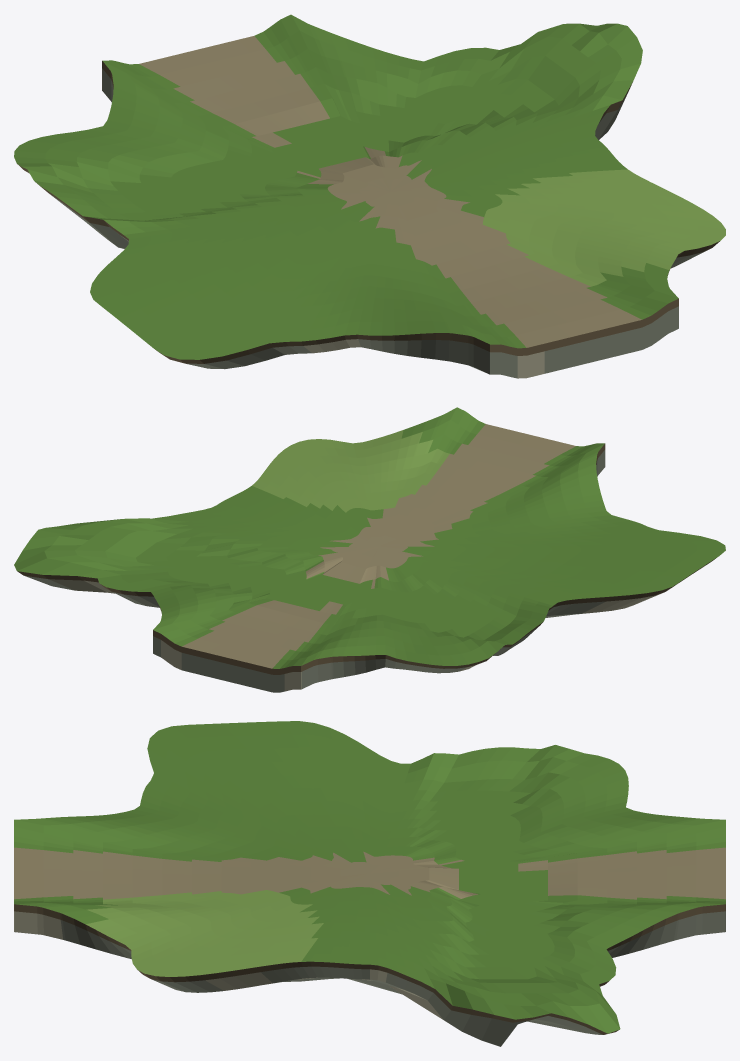
The model's file is cutbank_ford_structure.fbx.
The picture shows the model from 3 angles, top to bottom: view 1: azimuth 30°, elevation 25°; view 2: azimuth 150°, elevation 25°; view 3: azimuth 270°, elevation 25°; orthographic projection. The views are drawn at different scales.
Parts seen in each view (by area): view 1: chunk_cutbank_ford; view 2: chunk_cutbank_ford; view 3: chunk_cutbank_ford.
Part boxes in pixels (bbox=[...]): chunk_cutbank_ford: bbox=[14, 14, 725, 378]; chunk_cutbank_ford: bbox=[14, 407, 725, 692]; chunk_cutbank_ford: bbox=[14, 721, 725, 1046].
Bounding box in the file's own units: 256 × 48.5 × 256.
